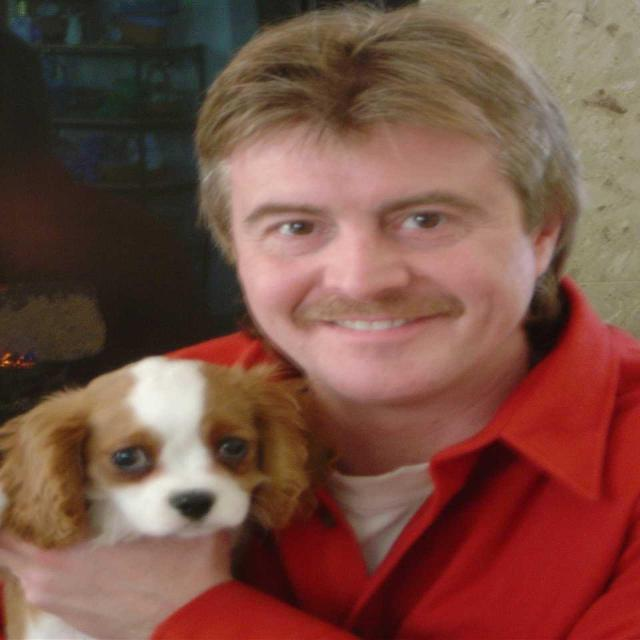blenheim_spaniel: (2, 350, 352, 638)
